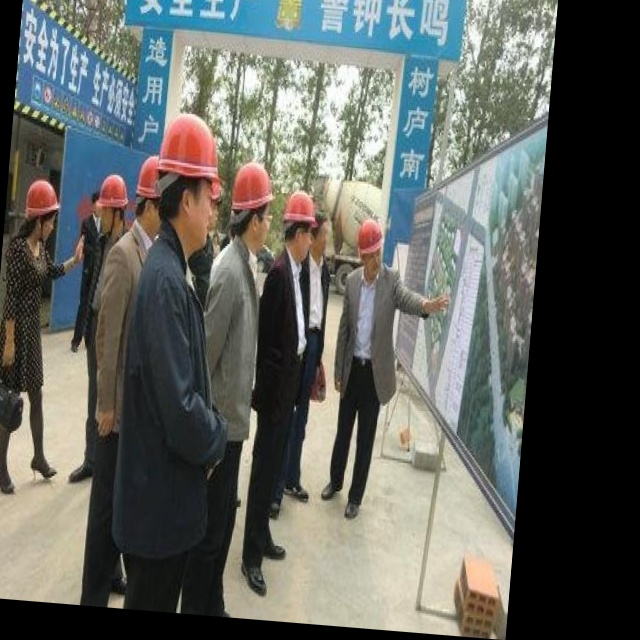Con_Casco: (230, 159, 280, 251), (23, 177, 63, 242), (94, 173, 130, 233), (356, 218, 386, 276)
